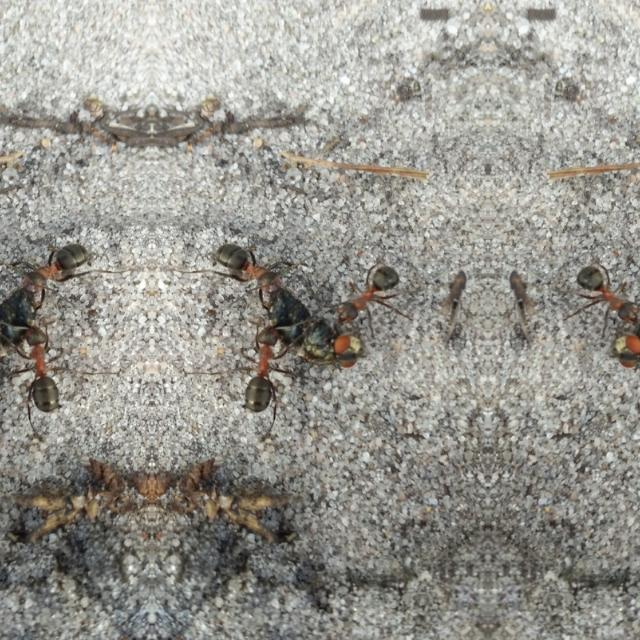Formica: (219, 306, 297, 434), (5, 306, 83, 434), (326, 240, 416, 342), (558, 240, 640, 340), (10, 228, 89, 306), (214, 228, 292, 306)
